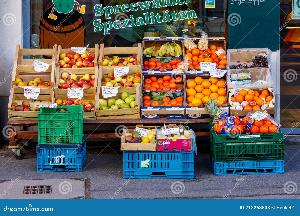apple: (52, 66, 96, 94), (54, 88, 96, 114), (55, 44, 98, 68), (100, 43, 140, 68), (99, 68, 143, 90), (13, 68, 53, 88)
banana: (142, 37, 184, 59)
lemon: (141, 128, 155, 146)
mango: (120, 129, 140, 147)
orange: (214, 110, 276, 136), (184, 73, 226, 109), (184, 39, 225, 71), (141, 91, 185, 111), (142, 73, 186, 91), (230, 88, 274, 106), (142, 56, 186, 72)
pear: (98, 90, 140, 114)
pomegranate: (13, 90, 54, 116)
